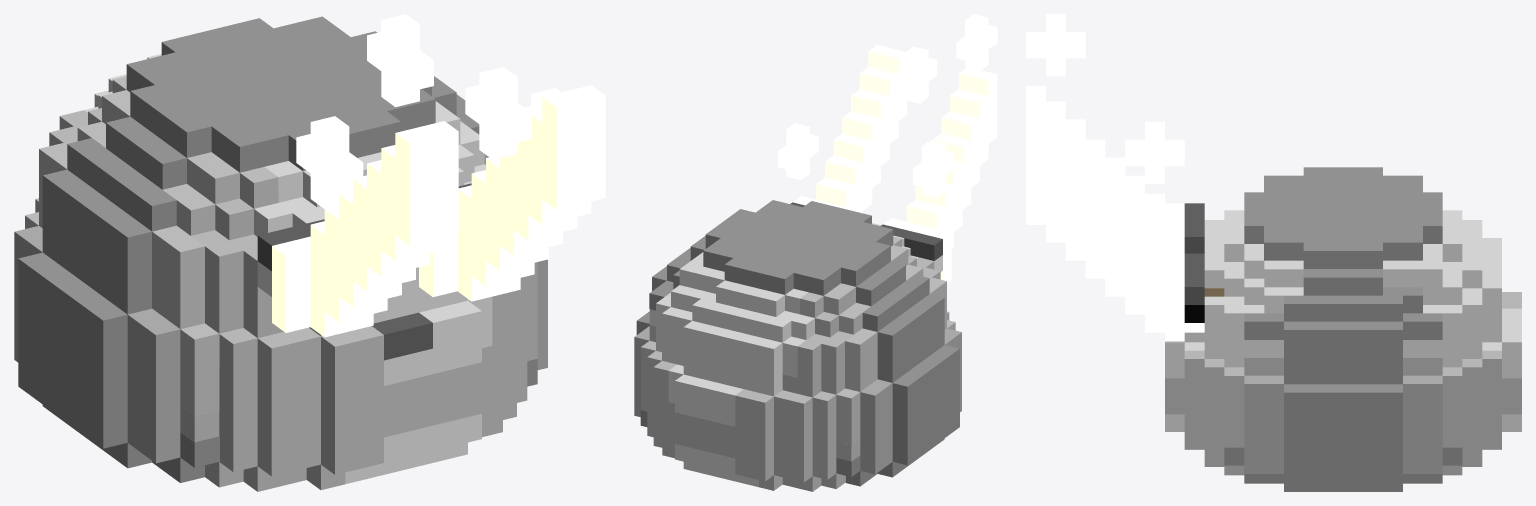
3 renders of one model, left to right at view 1: azimuth 30°, elevation 25°; view 2: azimuth 150°, elevation 25°; view 3: azimuth 270°, elevation 25°, orthographic. The views are drawn at different scales.
Visible parts, largest first — view 1: form_GLTF, form_GLTF_1, gaze_GLTF, form_GLTF_2, form_GLTF_4, gaze_GLTF_1, form_GLTF_3, mood_GLTF, eyes_GLTF; view 2: form_GLTF, form_GLTF_2, form_GLTF_1, gaze_GLTF, gaze_GLTF_1, form_GLTF_4, form_GLTF_3, eyes_GLTF; view 3: form_GLTF, form_GLTF_2, gaze_GLTF, form_GLTF_1, gaze_GLTF_1, form_GLTF_3, eyes_GLTF.
Boxes of the visible parts, x1,y1,x2,y2 form: form_GLTF: (18,16,537,482); form_GLTF_1: (35,108,537,491); gaze_GLTF: (272,85,605,337); form_GLTF_2: (84,54,492,484); form_GLTF_4: (25,76,278,416); gaze_GLTF_1: (296,14,560,209); form_GLTF_3: (14,226,547,463); mood_GLTF: (372,312,432,360); eyes_GLTF: (257,183,471,271); form_GLTF: (636,200,959,486); form_GLTF_2: (649,223,918,487); form_GLTF_1: (641,256,949,491); gaze_GLTF: (793,45,997,282); gaze_GLTF_1: (777,14,997,197); form_GLTF_4: (800,236,955,445); form_GLTF_3: (634,326,961,474); eyes_GLTF: (790,202,942,260); form_GLTF: (1224,167,1462,491); form_GLTF_2: (1165,210,1521,449); gaze_GLTF: (1026,86,1204,340); form_GLTF_1: (1165,292,1521,475); gaze_GLTF_1: (1026,14,1184,277); form_GLTF_3: (1244,375,1442,473); eyes_GLTF: (1184,203,1204,304).
Bounding box in the file's own units: 18 × 21 × 25.
